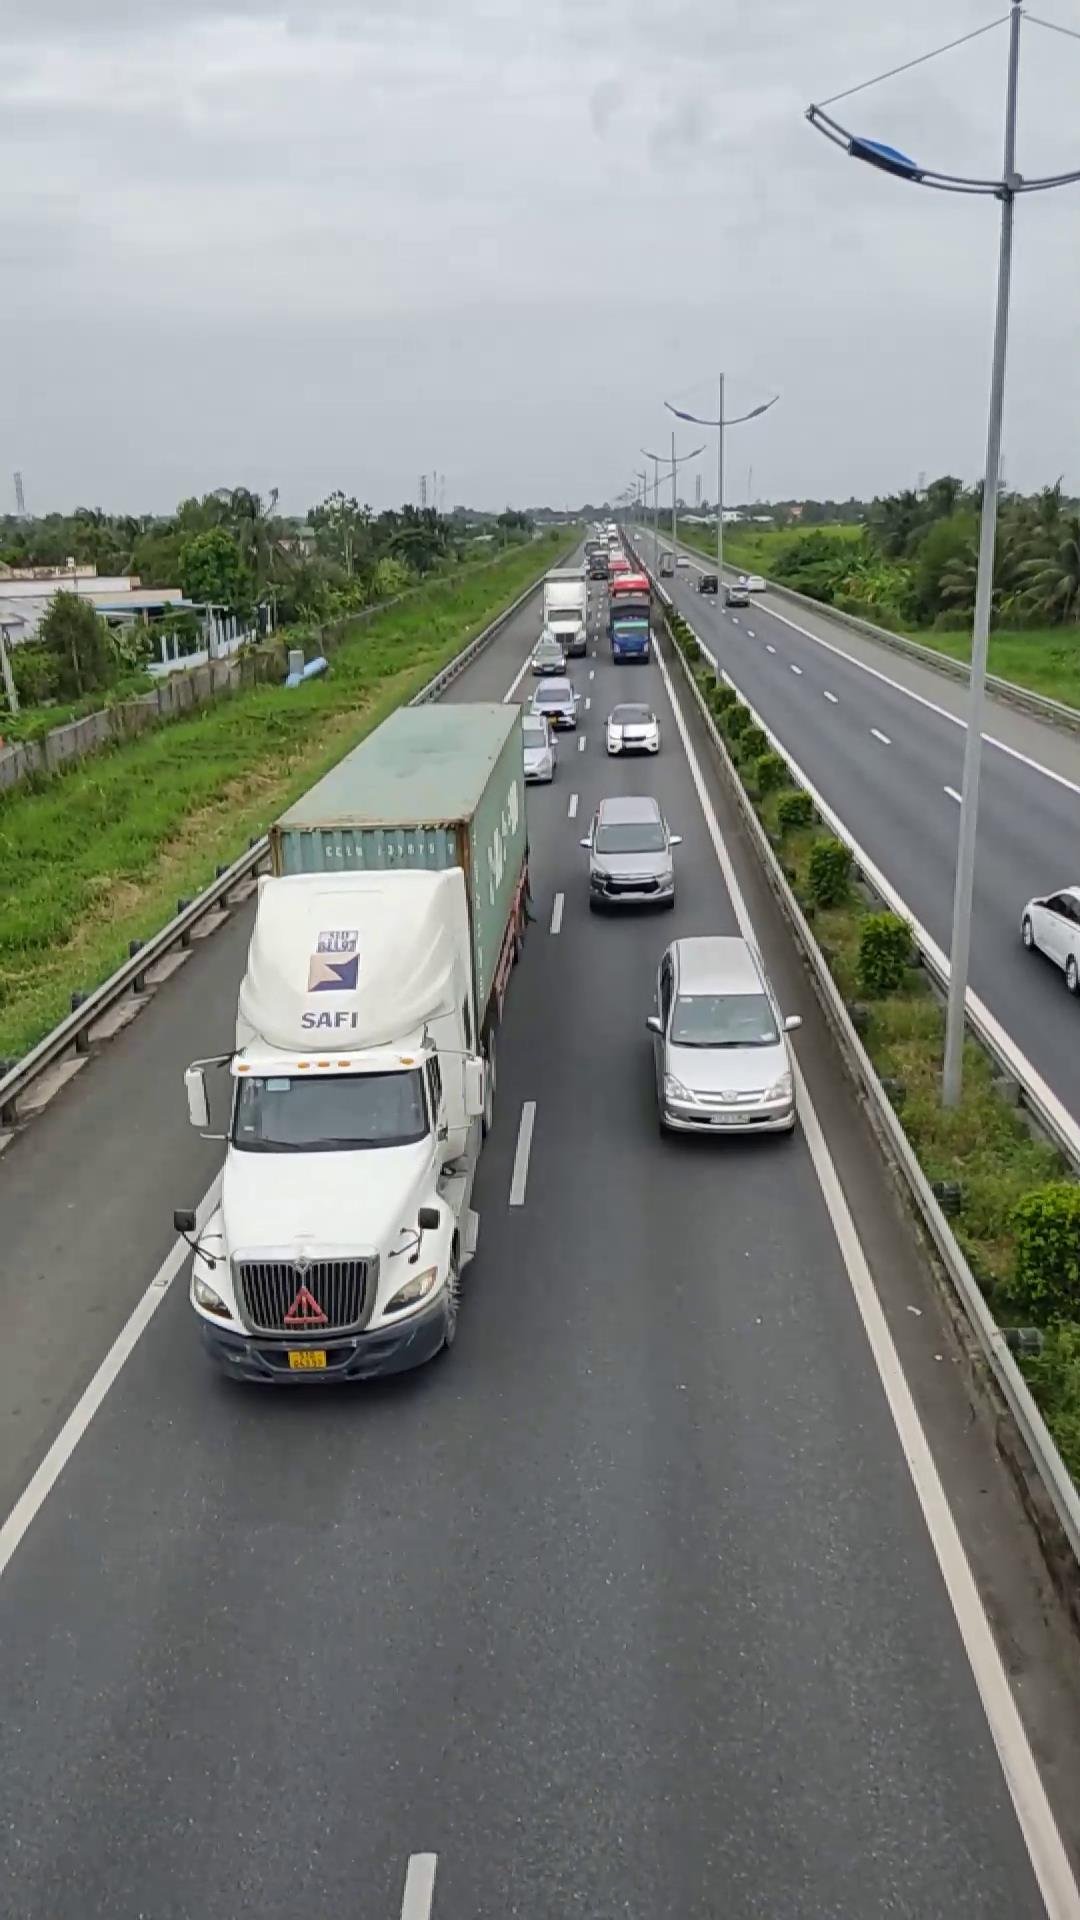car: (643, 932, 799, 1139), (582, 794, 679, 912)
container: (189, 693, 536, 1388)
